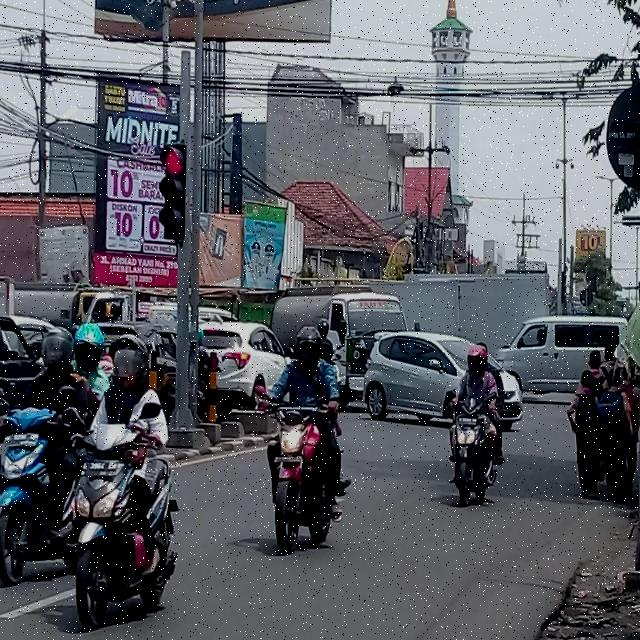Czerwone swiatlo: (158, 143, 189, 244)
